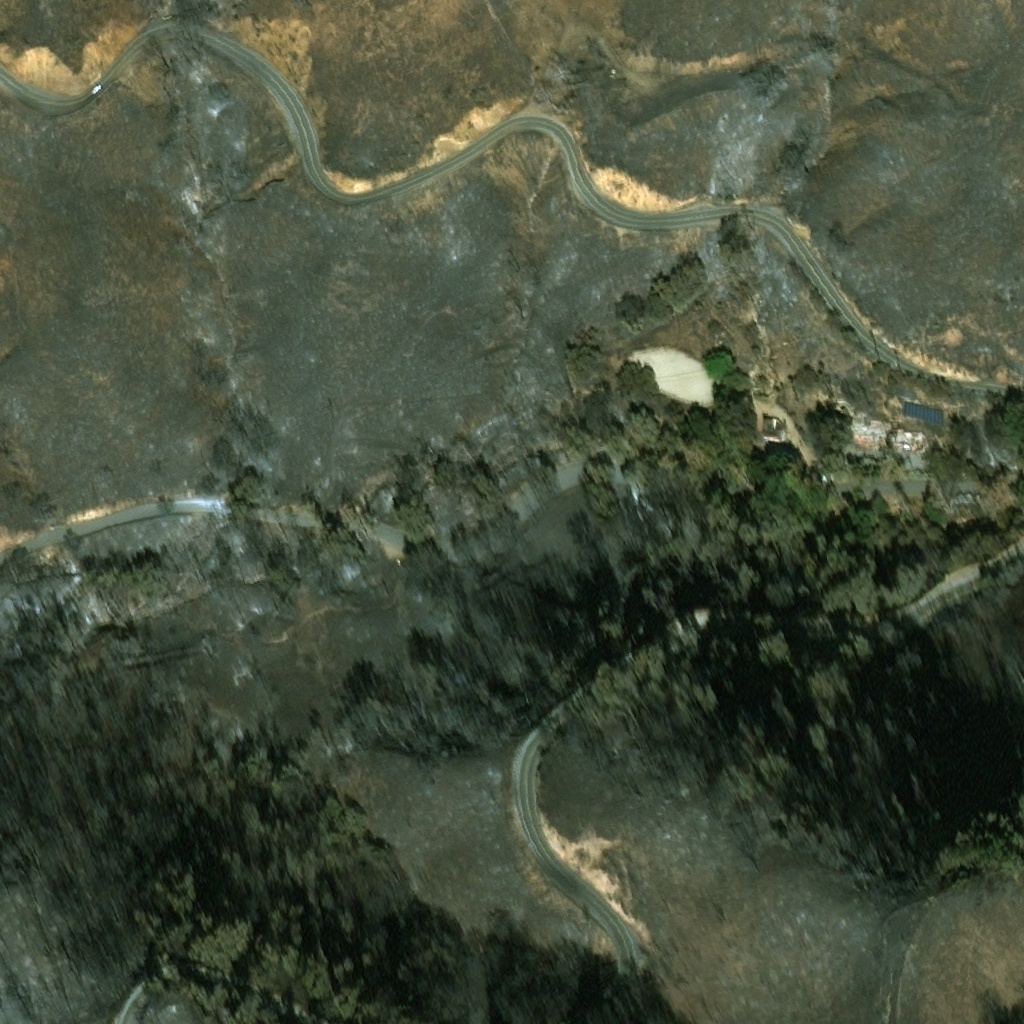0 no-damage: (902, 398, 942, 418), (767, 443, 799, 461), (761, 417, 787, 439)
3 destroyed: (847, 415, 924, 443)
4 un-classified: (1003, 454, 1021, 465)
